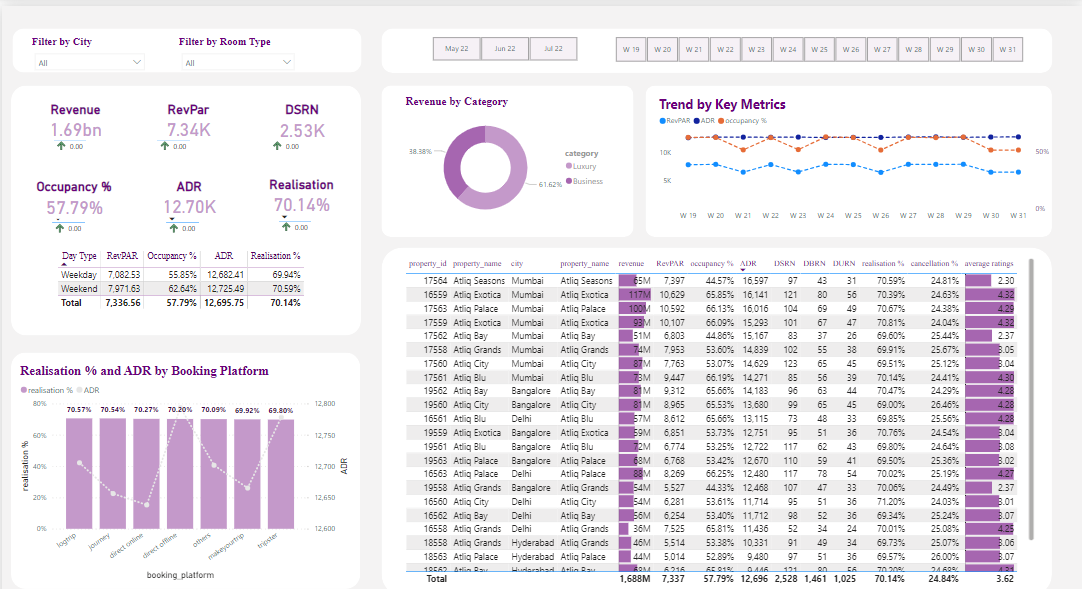

What the dashboard file says about the page in this screenshot:
{"tool":"powerbi","page":{"name":"Page 1","canvas":[1800,1100],"ordinal":0},"visuals":[{"type":"shape","box":[632.5,402.5,1117.5,580],"z":0},{"type":"shape","box":[16,578,582,394],"z":1000},{"type":"shape","box":[1072.5,132.5,677.5,252.5],"z":2000},{"type":"shape","box":[632.5,132.5,420,252.5],"z":3000},{"type":"shape","box":[15,133.3,583.3,416.7],"z":4000},{"type":"shape","box":[632,38,1118,74],"z":5000},{"type":"shape","box":[16.7,38.3,581.7,73.3],"z":6000},{"type":"tableEx","fields":{"Values":["dim_hotel.property_id","dim_hotel.property_name","dim_hotel.city","dim_hotel.property_name","key_measures.revenue","key_measures.revenue per available room","key_measures.occupancy %","key_measures.avg room rate","key_measures.DSRN","key_measures.DBRN","key_measures.DURN","key_measures.realisation %"]},"box":[667.5,415,1057.5,555],"z":7000},{"type":"slicer","title":"Filter by City","fields":{"Values":["dim_hotel.city"]},"box":[43.8,50,202.5,60],"z":8000},{"type":"slicer","title":"Filter by Room Type","fields":{"Values":["dim_rooms.room_class"]},"box":[290,50,207.5,60],"z":9000},{"type":"slicer","fields":{"Values":["dim_date.mmm yy"]},"box":[692.5,45,290,52.5],"z":10000},{"type":"slicer","fields":{"Values":["dim_date.week no"]},"box":[998,44,728,54],"z":11000},{"type":"tableEx","fields":{"Values":["key_measures.Revenue WoW change %"]},"box":[253.2,194.5,117.1,60],"z":12000},{"type":"lineChart","title":"Trend by Key Metrics","fields":{"Category":["dim_date.mmm yy.Variation.Date Hierarchy.Month","dim_date.week no"],"Y2":["key_measures.occupancy %"],"Y":["key_measures.revenue per available room","key_measures.avg room rate"]},"box":[1090,147.5,660,220],"z":13000},{"type":"card","title":"RevPar","fields":{"Values":["key_measures.revenue per available room"]},"box":[211,160.2,201.4,64.3],"z":14000},{"type":"tableEx","fields":{"Values":["key_measures.Revenue WoW change %"]},"box":[266.8,331.7,90,54.3],"z":15000},{"type":"card","title":"ADR","fields":{"Values":["key_measures.avg room rate"]},"box":[212.5,287.4,198.6,64.3],"z":16000},{"type":"donutChart","title":"Revenue by Category","fields":{"Category":["dim_hotel.category"],"Y":["key_measures.revenue"]},"box":[667.5,147.5,350,222.5],"z":17000},{"type":"lineStackedColumnComboChart","title":"Realisation % and ADR by Booking Platform","fields":{"Category":["fact_bookings.booking_platform"],"Y2":["key_measures.ADR"],"Y":["key_measures.realisation %"]},"box":[26,594,556,366],"z":18000},{"type":"tableEx","fields":{"Values":["dim_date.weekday","key_measures.revenue per available room","key_measures.occupancy %","key_measures.ADR","key_measures.realisation %"]},"box":[86.7,403.3,450,116.7],"z":19000},{"type":"tableEx","fields":{"Values":["key_measures.Revenue WoW change %"]},"box":[454,330,90,55.7],"z":20000},{"type":"card","title":"Realisation ","fields":{"Values":["key_measures.realisation %"]},"box":[409.8,285,178.3,63.3],"z":21000},{"type":"tableEx","fields":{"Values":["key_measures.Revenue WoW change %"]},"box":[76.6,331.7,90,54.3],"z":22000},{"type":"card","title":"Occupancy %","fields":{"Values":["key_measures.occupancy %"]},"box":[44.5,287.4,150,67.1],"z":23000},{"type":"tableEx","fields":{"Values":["key_measures.Revenue WoW change %"]},"box":[78.8,194.5,85.7,60],"z":24000},{"type":"card","title":"Revenue","fields":{"Values":["key_measures.revenue"]},"box":[51.6,160.3,140,64.3],"z":25000},{"type":"tableEx","fields":{"Values":["key_measures.Revenue WoW change %"]},"box":[440.4,193.8,117.1,60],"z":26000},{"type":"card","title":"DSRN","fields":{"Values":["key_measures.DSRN"]},"box":[409,160,180,65],"z":28000}]}

Visuals, with their boxes on the page's 1800x1100 design canvas (x1, y1, x2, y2). These are canvas units, not pixel positions in the 1082x589 screenshot, which may show the page scaled, cropped or inside an application window:
shape: bbox(632, 402, 1750, 982)
shape: bbox(16, 578, 598, 972)
shape: bbox(1072, 132, 1750, 385)
shape: bbox(632, 132, 1052, 385)
shape: bbox(15, 133, 598, 550)
shape: bbox(632, 38, 1750, 112)
shape: bbox(17, 38, 598, 112)
tableEx - dim_hotel.property_id x dim_hotel.property_name: bbox(668, 415, 1725, 970)
"Filter by City" slicer: bbox(44, 50, 246, 110)
"Filter by Room Type" slicer: bbox(290, 50, 498, 110)
slicer - dim_date.mmm yy: bbox(692, 45, 982, 98)
slicer - dim_date.week no: bbox(998, 44, 1726, 98)
tableEx - key_measures.Revenue WoW change %: bbox(253, 194, 370, 254)
"Trend by Key Metrics" lineChart: bbox(1090, 148, 1750, 368)
"RevPar" card: bbox(211, 160, 412, 224)
tableEx - key_measures.Revenue WoW change %: bbox(267, 332, 357, 386)
"ADR" card: bbox(212, 287, 411, 352)
"Revenue by Category" donutChart: bbox(668, 148, 1018, 370)
"Realisation % and ADR by Booking Platform" lineStackedColumnComboChart: bbox(26, 594, 582, 960)
tableEx - dim_date.weekday x key_measures.revenue per available room: bbox(87, 403, 537, 520)
tableEx - key_measures.Revenue WoW change %: bbox(454, 330, 544, 386)
"Realisation " card: bbox(410, 285, 588, 348)
tableEx - key_measures.Revenue WoW change %: bbox(77, 332, 167, 386)
"Occupancy %" card: bbox(44, 287, 194, 354)
tableEx - key_measures.Revenue WoW change %: bbox(79, 194, 164, 254)
"Revenue" card: bbox(52, 160, 192, 225)
tableEx - key_measures.Revenue WoW change %: bbox(440, 194, 558, 254)
"DSRN" card: bbox(409, 160, 589, 225)
